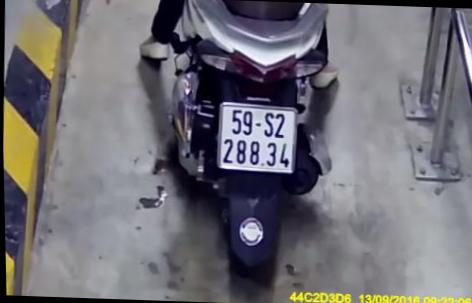LP: (215, 99, 299, 174)
